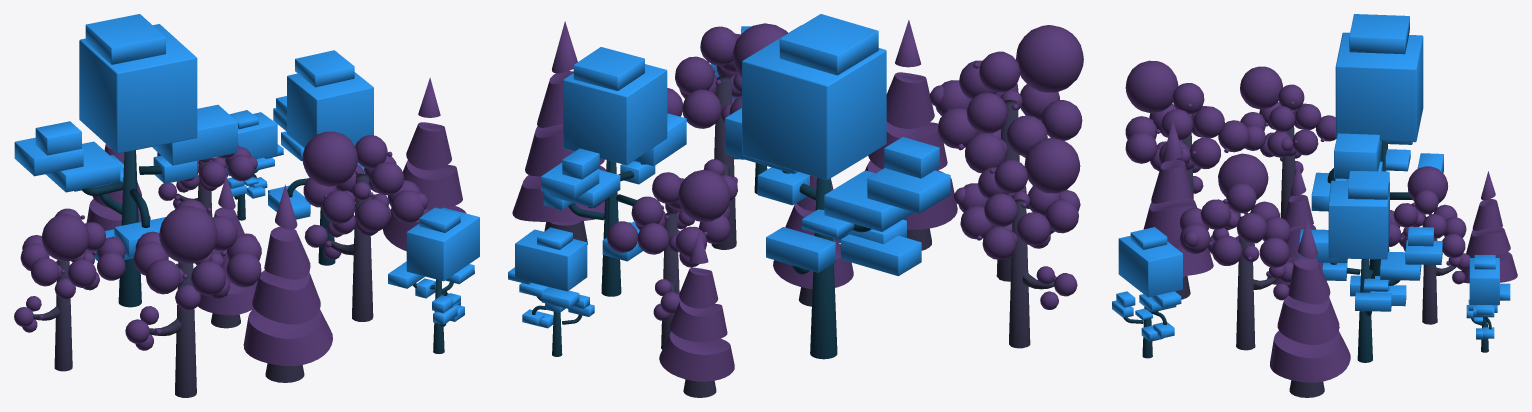
File: nature_cluster_3.glb
3 views of the same model, side by side, from view 1: azimuth 30°, elevation 25°; view 2: azimuth 150°, elevation 25°; view 3: azimuth 270°, elevation 25° (orthographic). The views are drawn at different scales.
Visible parts, largest first — view 1: Cone.026; view 2: Cone.026; view 3: Cone.026.
Boxes of the visible parts, bbox=[...] form: Cone.026: bbox=[14, 14, 479, 397]; Cone.026: bbox=[508, 14, 1083, 397]; Cone.026: bbox=[1112, 14, 1517, 397].
Size of the model in its own units: 72.68 by 41 by 60.88.
